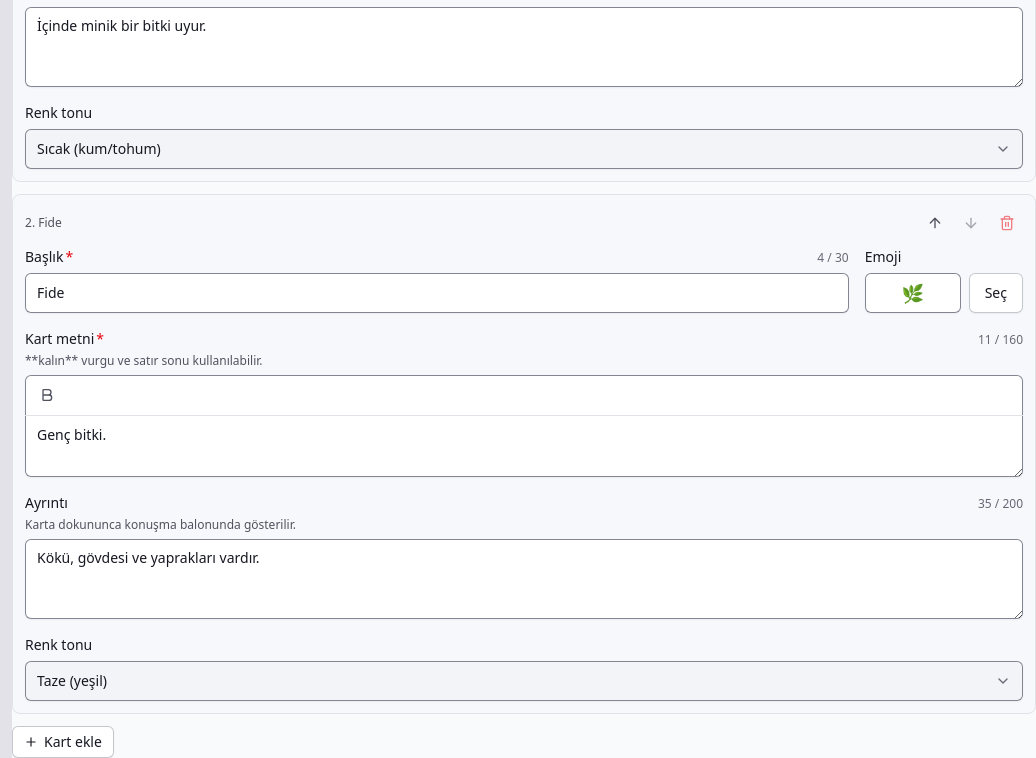
BlockFieldsEditor › compare-cards: adds items with fresh ids up to the schema maximum (3)
(page scrolled)
Click the button "Kart ekle" at (63, 742), box [12,726,114,757]
(page scrolled)
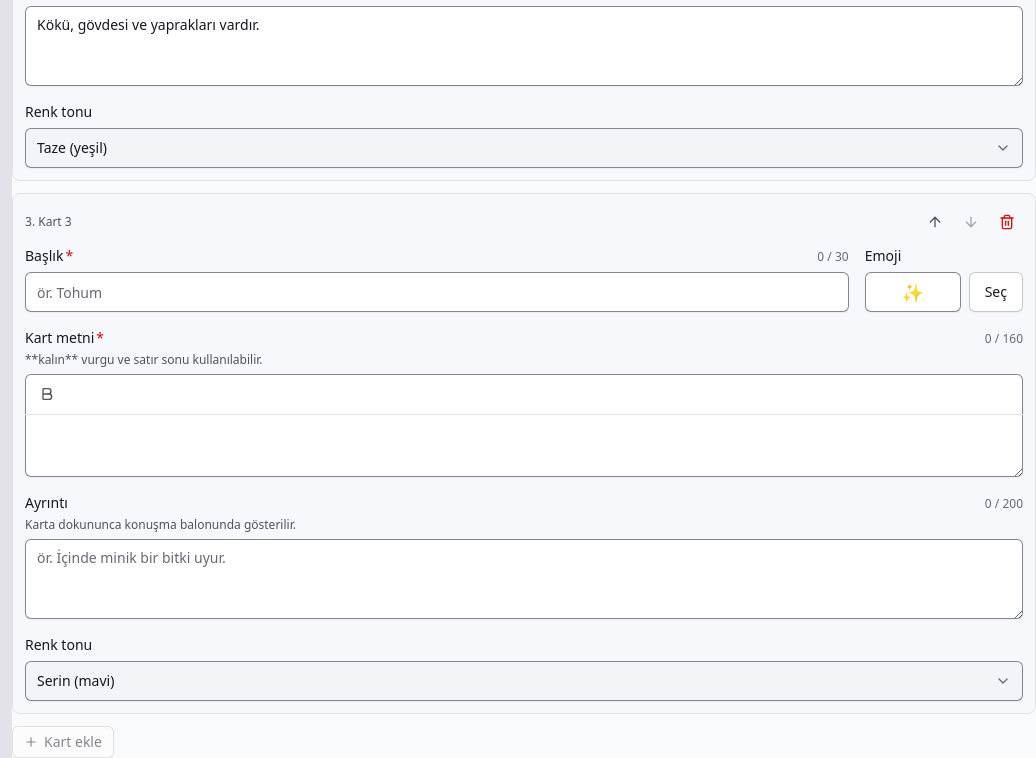
Expected: the button "Kart ekle" is disabled, [12,726,114,757]
